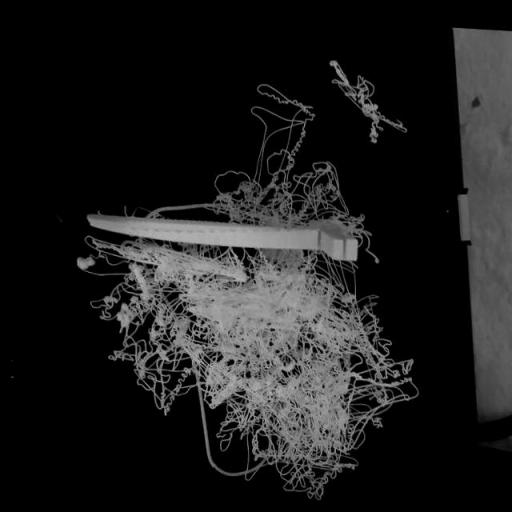spaghetti_and_stringing: (214, 279, 364, 405), (136, 278, 210, 377), (260, 398, 352, 476), (239, 152, 328, 218), (354, 314, 401, 406), (334, 65, 393, 132), (211, 377, 262, 451), (94, 276, 140, 322)
